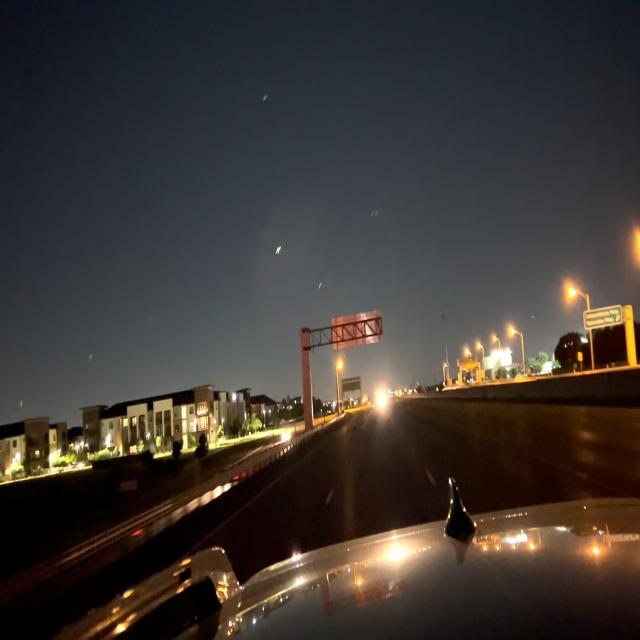back-of-sign: (332, 307, 382, 359)
